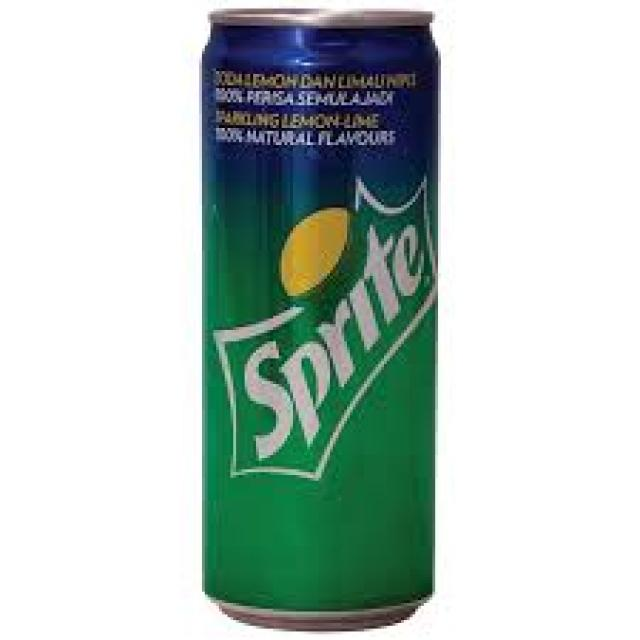aluminum_can: (202, 9, 435, 630)
